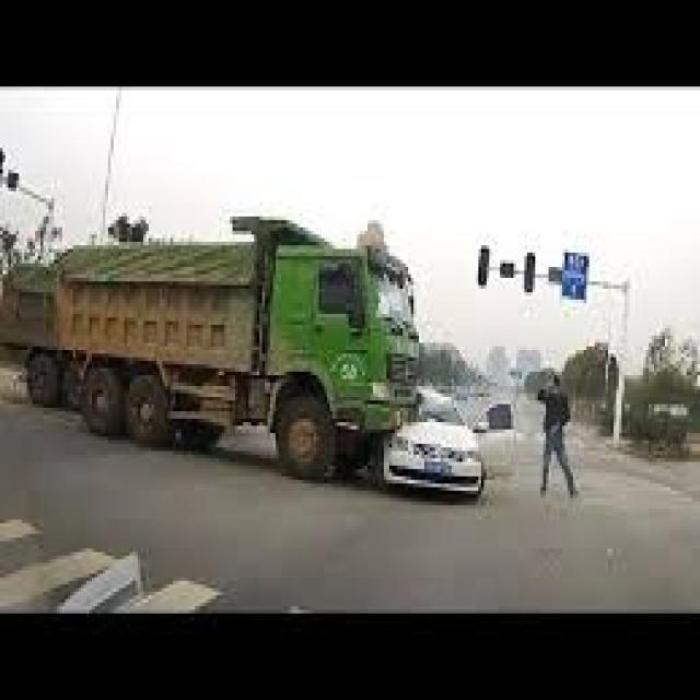Accident: (344, 301, 514, 518)
